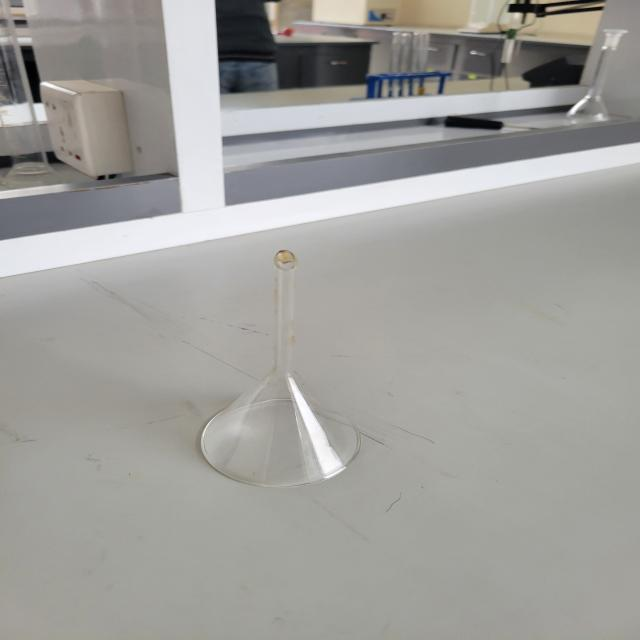Funnel: (174, 221, 390, 509)
